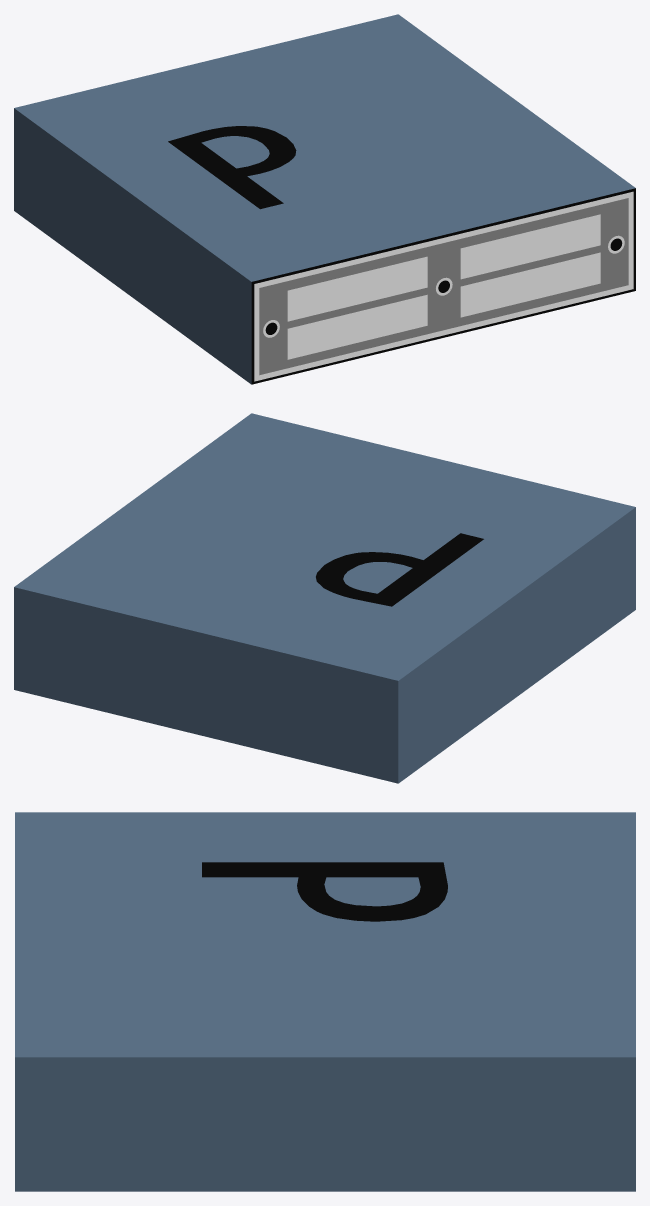
Rendered from RackServer.obj.
The picture shows the model from 3 angles, top to bottom: view 1: azimuth 30°, elevation 25°; view 2: azimuth 150°, elevation 25°; view 3: azimuth 270°, elevation 25°; orthographic projection. The views are drawn at different scales.
Parts seen in each view (by area): view 1: polySurface43; view 2: polySurface43; view 3: polySurface43.
Boxes of the visible parts, box(x1,y1,x2,y2) form: polySurface43: box(14, 14, 635, 384); polySurface43: box(14, 413, 635, 783); polySurface43: box(15, 812, 635, 1191).
Size of the model in its own units: 0.9326 by 0.2402 by 0.9999.
